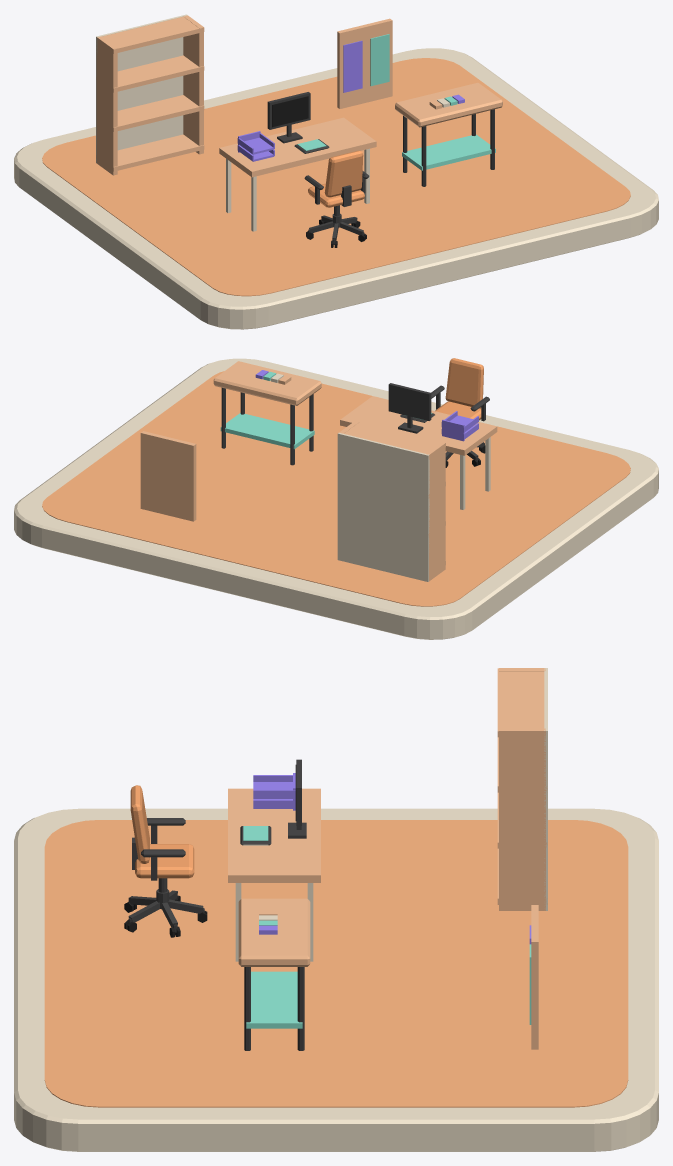
Rendered from room.fbx.
3 renders of one model, top to bottom at view 1: azimuth 30°, elevation 25°; view 2: azimuth 150°, elevation 25°; view 3: azimuth 270°, elevation 25°, orthographic. The views are drawn at different scales.
Visible parts, largest first — view 1: COM-02 Floor Surface, COM-01 Rounded Base Direct, Top, Back, COM-04_Chair_blender_direct, Side, Design board, Worktop, Side.001, Shelf.003, Lower shelf, Shelf.001 (+5 smaller); view 2: COM-02 Floor Surface, COM-01 Rounded Base Direct, Back, Design board, Top, COM-04_Chair_blender_direct, Worktop, Side, Lower shelf, Frame, Shelf.003; view 3: COM-02 Floor Surface, COM-01 Rounded Base Direct, Side.001, Top, COM-04_Chair_blender_direct, Worktop, Shelf.003, Lower shelf, Design board, Back, Frame.
Part boxes in pixels (bbox=[...]): COM-02 Floor Surface: bbox=[42, 58, 630, 296]; COM-01 Rounded Base Direct: bbox=[14, 48, 658, 329]; Top: bbox=[219, 117, 376, 231]; Back: bbox=[96, 14, 187, 162]; COM-04_Chair_blender_direct: bbox=[304, 150, 369, 247]; Side: bbox=[96, 36, 117, 175]; Design board: bbox=[337, 18, 392, 108]; Worktop: bbox=[395, 82, 502, 127]; Side.001: bbox=[183, 15, 203, 154]; Shelf.003: bbox=[102, 16, 204, 53]; Lower shelf: bbox=[402, 134, 495, 170]; Shelf.001: bbox=[109, 95, 204, 131]; COM-02 Floor Surface: bbox=[42, 371, 630, 606]; COM-01 Rounded Base Direct: bbox=[14, 358, 658, 639]; Back: bbox=[337, 432, 429, 581]; Design board: bbox=[140, 431, 196, 521]; Top: bbox=[340, 396, 497, 509]; COM-04_Chair_blender_direct: bbox=[431, 358, 489, 467]; Worktop: bbox=[213, 361, 321, 405]; Side: bbox=[425, 442, 445, 581]; Lower shelf: bbox=[220, 413, 314, 449]; Frame: bbox=[388, 383, 431, 433]; Shelf.003: bbox=[344, 421, 445, 459]; COM-02 Floor Surface: bbox=[44, 820, 628, 1107]; COM-01 Rounded Base Direct: bbox=[14, 808, 658, 1151]; Side.001: bbox=[499, 728, 545, 910]; Top: bbox=[228, 788, 320, 961]; COM-04_Chair_blender_direct: bbox=[124, 785, 207, 937]; Worktop: bbox=[238, 898, 310, 966]; Shelf.003: bbox=[497, 668, 544, 737]; Lower shelf: bbox=[246, 971, 302, 1028]; Design board: bbox=[531, 905, 538, 1049]; Back: bbox=[544, 668, 547, 910]; Frame: bbox=[288, 759, 306, 838].
Bounding box in the file's own units: 600 × 190 × 520.
